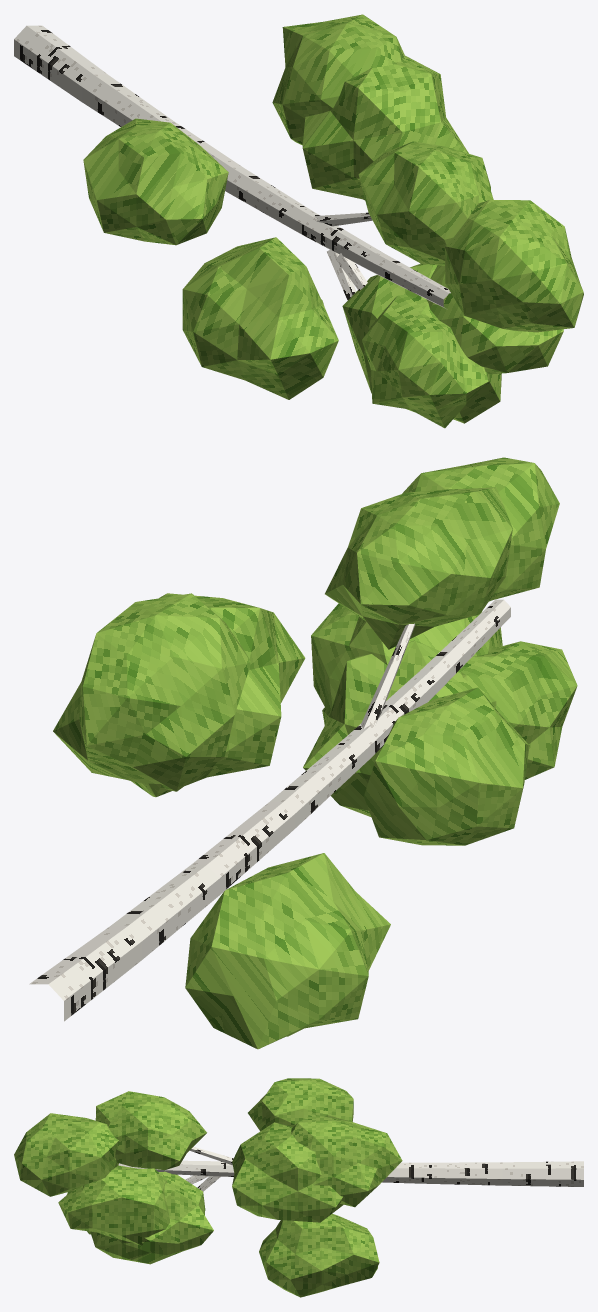
The model's file is birch_tree_small.glb.
3 renders of one model, top to bottom at view 1: azimuth 30°, elevation 25°; view 2: azimuth 150°, elevation 25°; view 3: azimuth 270°, elevation 25°, orthographic. The views are drawn at different scales.
Parts seen in each view (by area): view 1: leaves, bark; view 2: leaves, bark; view 3: leaves, bark.
Part boxes in pixels (left/top/right/bottom): leaves: left=83, top=14, right=583, bottom=428; bark: left=14, top=25, right=450, bottom=308; leaves: left=53, top=457, right=577, bottom=1049; bark: left=29, top=599, right=510, bottom=1021; leaves: left=14, top=1078, right=402, bottom=1297; bark: left=118, top=1146, right=583, bottom=1191.
Bounding box in the file's own units: 1.82 × 1.69 × 4.32.
Materials: 2 (2 with a texture image).
